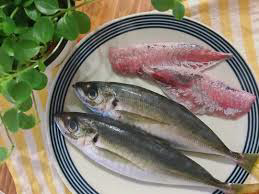azi: (71, 79, 257, 175), (53, 110, 250, 192)
